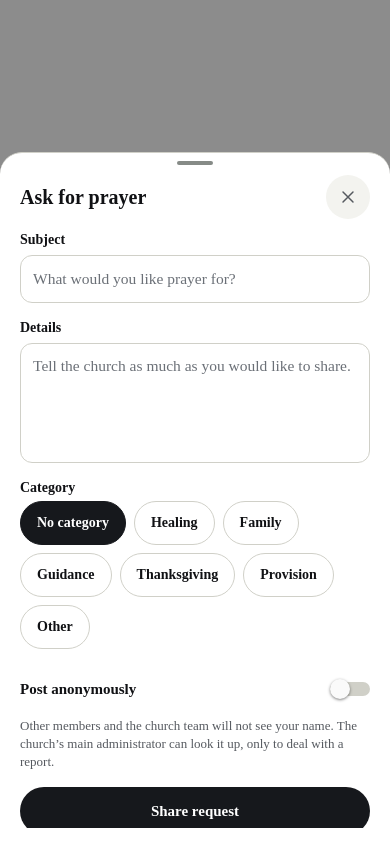
Test case: validation › asks for a subject and for details, in words, and sends nothing
What coordinates should you click on to do the following:
click the button with test id "prayer-form-submit"
I would click on:
 (195, 811)
Its box is [20,787,370,835].
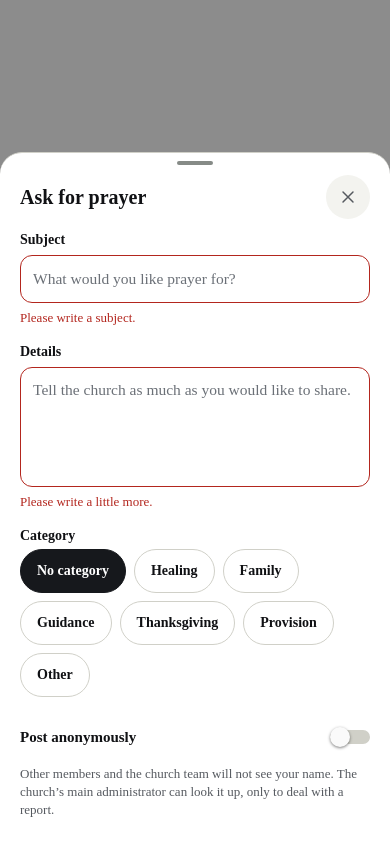
Expected: the text "Please write a subject." is shown, [20,310,136,325]
Expected: the text "Please write a little more." is shown, [20,494,152,509]
